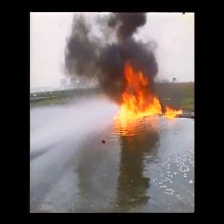fire: (112, 57, 185, 123)
